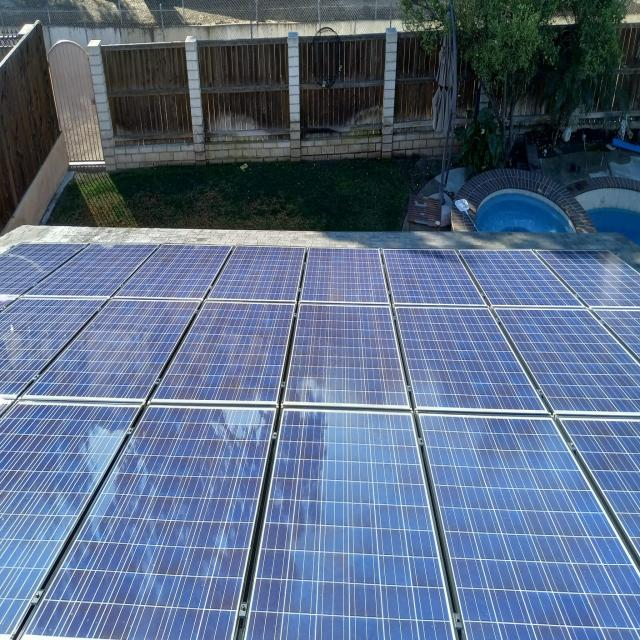clean-solar-panel: (420, 416, 640, 638)
